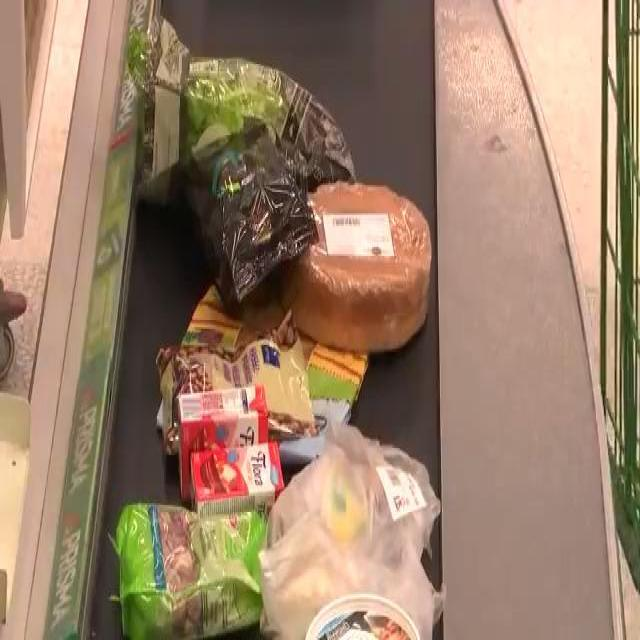beverage: (180, 385, 274, 502), (192, 441, 288, 510)
food-box: (283, 174, 437, 364), (118, 492, 278, 636), (164, 315, 309, 449), (210, 102, 309, 296), (307, 579, 423, 639)
fruit: (268, 440, 438, 634)
vegetable: (134, 42, 350, 205)
